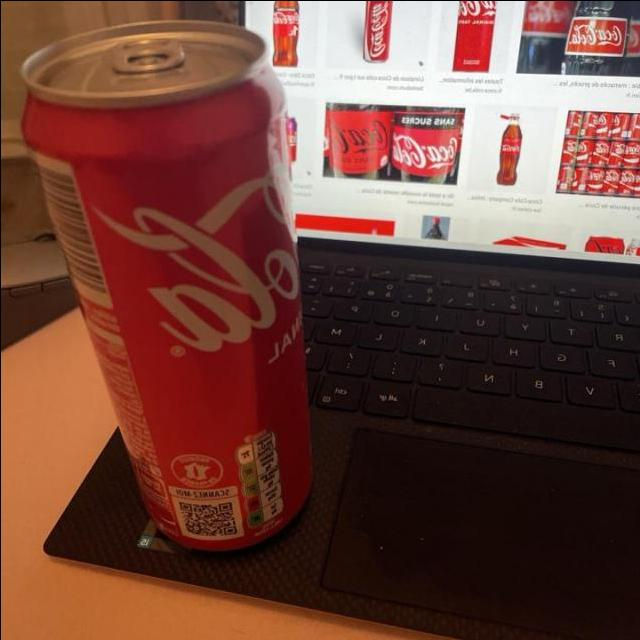can: (16, 15, 316, 557)
